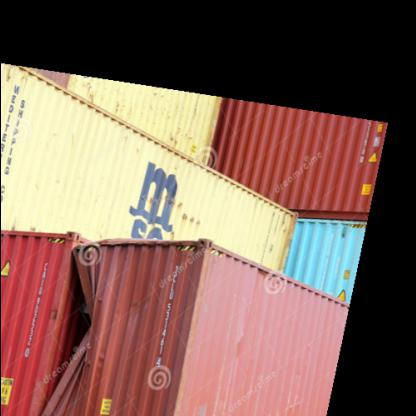Damage: (46, 261, 96, 371)
